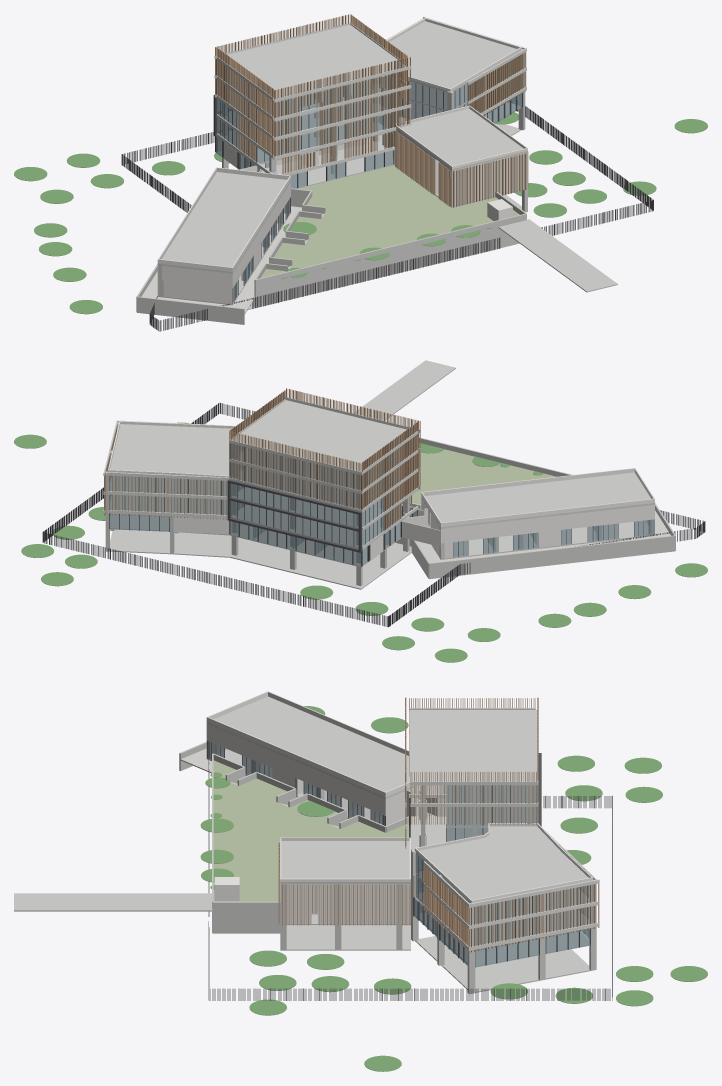
Rendered from cip_lote2025.glb.
3 views of the same model, one above another, from view 1: azimuth 30°, elevation 25°; view 2: azimuth 150°, elevation 25°; view 3: azimuth 270°, elevation 25° (orthographic). The views are drawn at different scales.
Visible parts, largest first — view 1: 07H44uIoTEXw1qHULclO2z, 1QpUHrSoTFx9uS3Vjl$wd_, 14nLO3ETX5MOVVd416H$eS, 2eIRAetN578xRfSbWnpt72, 1_rDCAEXj3NPt$IZlhEY$L, 08oh5Of3b2gf8m$2uFcIgT, 2uhQmOL3L6SO03szrLV2B8, 0p_WBjYsLCdA46ftufGeFa, 2n7DEP8CD2nwttbpUT4bnS, 2nz1T6JDT0gOqL0qRpZ4JZ, 0aBeVUwvz0F8J7EP9wdmH1, 2YKtASzW98KPssN939YjyV (+20 smaller); view 2: 14nLO3ETX5MOVVd416H$eS, 2eIRAetN578xRfSbWnpt72, 0p_WBjYsLCdA46ftufGeFa, 1_rDCAEXj3NPt$IZlhEY$L, 2n7DEP8CD2nwttbpUT4bnS, 3PUypmGI9FyQ3A8U$Otpyw, 1cX2q8NSD2nQ0bPnmExtUq, 07H44uIoTEXw1qHULclO2z, 1$NRoS3LXFAADMzjyVsHoi, 21TgrRkDjEMfyf0_DQ4O9f, 2nz1T6JDT0gOqL0qRpZ4JZ, 2r0_Sm7RD3AwYlbMUYwvTe (+30 smaller); view 3: 2eIRAetN578xRfSbWnpt72, 07H44uIoTEXw1qHULclO2z, 14nLO3ETX5MOVVd416H$eS, 1_rDCAEXj3NPt$IZlhEY$L, 0p_WBjYsLCdA46ftufGeFa, 08oh5Of3b2gf8m$2uFcIgT, 2n7DEP8CD2nwttbpUT4bnS, 2nz1T6JDT0gOqL0qRpZ4JZ, 1$NRoS3LXFAADMzjyVsHoi, 2CXW5KtG1FrQvnWAjFGfcX, 1hUXWF$d9AVxTwYjMRz5B_, 2hpeMm09r0c9HPtWn4P0Mt (+22 smaller).
Boxes of the visible parts, x1,y1,x2,y2 form: 07H44uIoTEXw1qHULclO2z: [260, 165, 519, 277]; 1QpUHrSoTFx9uS3Vjl$wd_: [254, 213, 526, 307]; 14nLO3ETX5MOVVd416H$eS: [157, 172, 290, 273]; 2eIRAetN578xRfSbWnpt72: [227, 24, 405, 98]; 1_rDCAEXj3NPt$IZlhEY$L: [389, 21, 520, 92]; 08oh5Of3b2gf8m$2uFcIgT: [396, 108, 527, 170]; 2uhQmOL3L6SO03szrLV2B8: [122, 154, 500, 331]; 0p_WBjYsLCdA46ftufGeFa: [157, 167, 290, 287]; 2n7DEP8CD2nwttbpUT4bnS: [121, 103, 653, 235]; 2nz1T6JDT0gOqL0qRpZ4JZ: [498, 219, 617, 292]; 0aBeVUwvz0F8J7EP9wdmH1: [216, 137, 393, 188]; 2YKtASzW98KPssN939YjyV: [427, 153, 524, 205]; 14nLO3ETX5MOVVd416H$eS: [421, 472, 654, 528]; 2eIRAetN578xRfSbWnpt72: [232, 400, 406, 471]; 0p_WBjYsLCdA46ftufGeFa: [421, 468, 654, 543]; 1_rDCAEXj3NPt$IZlhEY$L: [109, 424, 231, 480]; 2n7DEP8CD2nwttbpUT4bnS: [42, 403, 388, 627]; 3PUypmGI9FyQ3A8U$Otpyw: [429, 535, 675, 579]; 1cX2q8NSD2nQ0bPnmExtUq: [230, 541, 411, 589]; 07H44uIoTEXw1qHULclO2z: [401, 449, 554, 505]; 1$NRoS3LXFAADMzjyVsHoi: [109, 529, 251, 557]; 21TgrRkDjEMfyf0_DQ4O9f: [431, 521, 654, 559]; 2nz1T6JDT0gOqL0qRpZ4JZ: [355, 360, 455, 420]; 2r0_Sm7RD3AwYlbMUYwvTe: [231, 500, 358, 547]; 2eIRAetN578xRfSbWnpt72: [409, 709, 537, 784]; 07H44uIoTEXw1qHULclO2z: [213, 760, 408, 901]; 14nLO3ETX5MOVVd416H$eS: [206, 696, 417, 798]; 1_rDCAEXj3NPt$IZlhEY$L: [416, 826, 588, 903]; 0p_WBjYsLCdA46ftufGeFa: [206, 691, 417, 815]; 08oh5Of3b2gf8m$2uFcIgT: [281, 841, 410, 883]; 2n7DEP8CD2nwttbpUT4bnS: [208, 795, 612, 1000]; 2nz1T6JDT0gOqL0qRpZ4JZ: [14, 893, 212, 911]; 1$NRoS3LXFAADMzjyVsHoi: [415, 936, 590, 992]; 2CXW5KtG1FrQvnWAjFGfcX: [280, 925, 410, 950]; 1hUXWF$d9AVxTwYjMRz5B_: [341, 884, 396, 923]; 2hpeMm09r0c9HPtWn4P0Mt: [213, 901, 280, 933].
Bounding box in the file's own units: 138 × 25.5 × 111.
